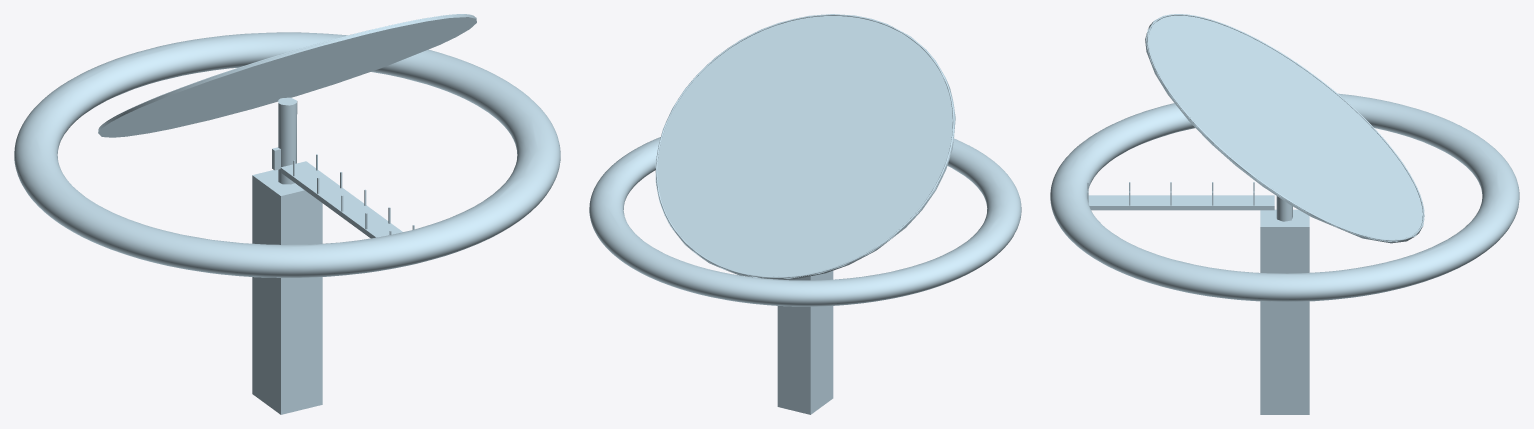
Rendered from stage_excavate_lod2.glb.
The picture shows the model from 3 angles, left to right: view 1: azimuth 30°, elevation 25°; view 2: azimuth 150°, elevation 25°; view 3: azimuth 270°, elevation 25°; orthographic projection. The views are drawn at different scales.
Visible parts, largest first — view 1: Spoil berm, Solar disc, Pod container, Bridge deck, Hatch column, Solar rim; view 2: Solar disc, Spoil berm, Pod container, Solar rim; view 3: Solar disc, Spoil berm, Pod container, Bridge deck, Solar rim.
Part boxes in pixels (x1,y1,x2,y2): Spoil berm: [14, 32, 560, 277]; Solar disc: [98, 14, 476, 137]; Pod container: [252, 170, 322, 414]; Bridge deck: [280, 161, 402, 238]; Hatch column: [278, 97, 297, 184]; Solar rim: [98, 14, 474, 131]; Solar disc: [655, 14, 955, 279]; Spoil berm: [589, 137, 1021, 306]; Pod container: [777, 271, 833, 414]; Solar rim: [655, 14, 954, 278]; Solar disc: [1145, 14, 1424, 243]; Spoil berm: [1050, 93, 1519, 301]; Pod container: [1260, 209, 1309, 414]; Bridge deck: [1088, 195, 1274, 210]; Solar rim: [1147, 14, 1424, 241].
Size of the model in its own units: 27.6 by 23.8 by 27.6.
